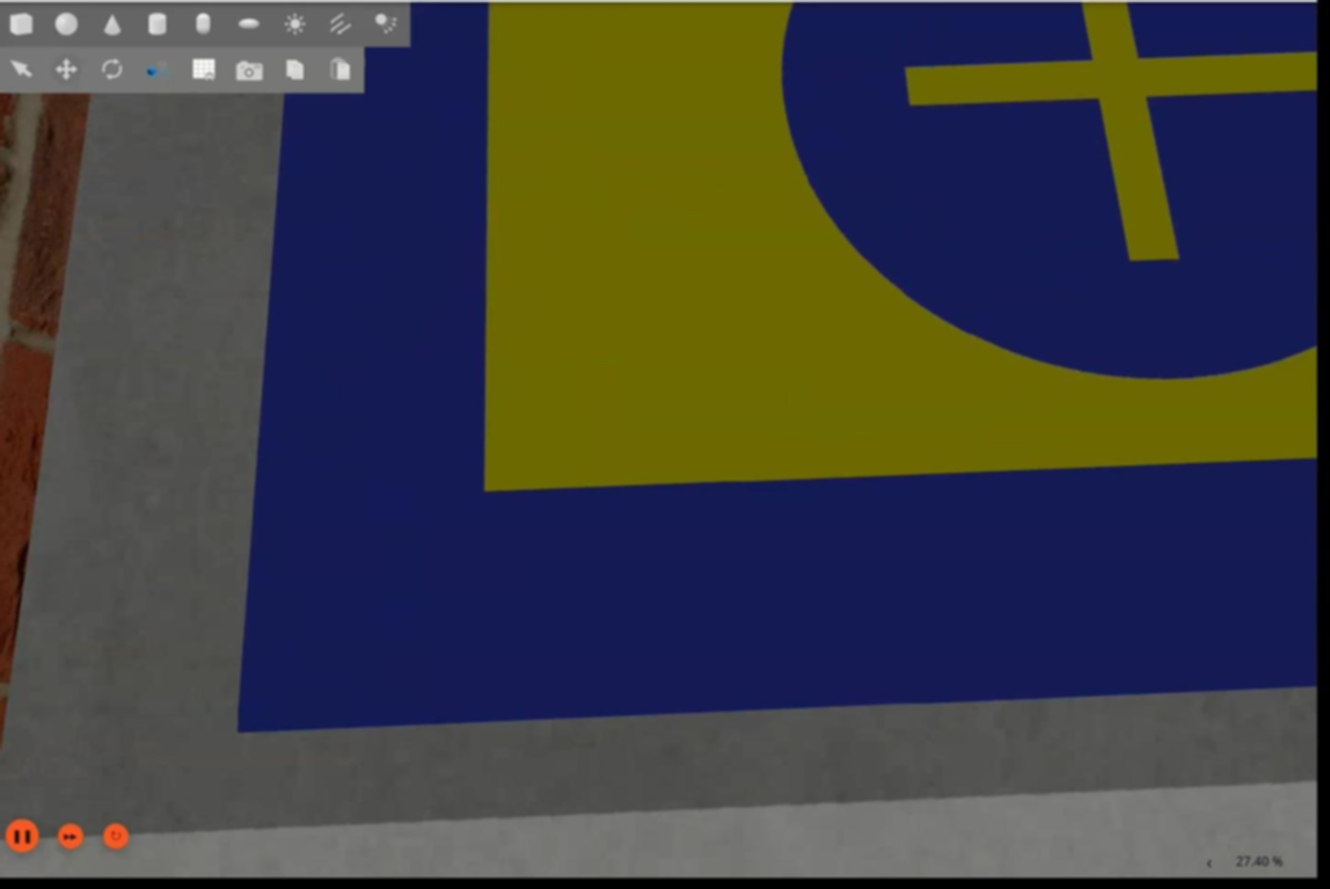large_base: (239, 1, 1316, 728)
